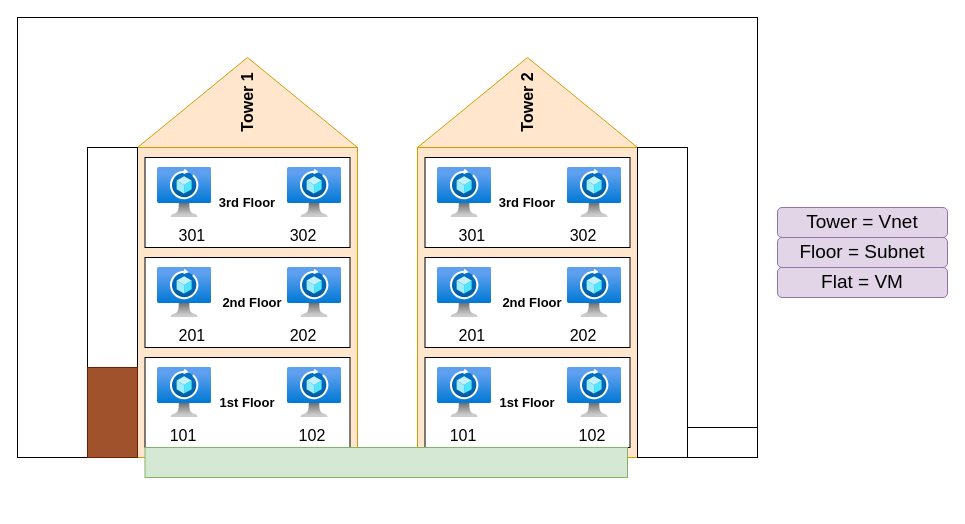
The diagram is 965 pixels wide and 524 high, and some of its shapes have lost their labels. The centre of each missing label's shape, as x and y in pixels:
"Gate" goes at point (722, 442).
"Vnet Peering" goes at point (386, 462).
